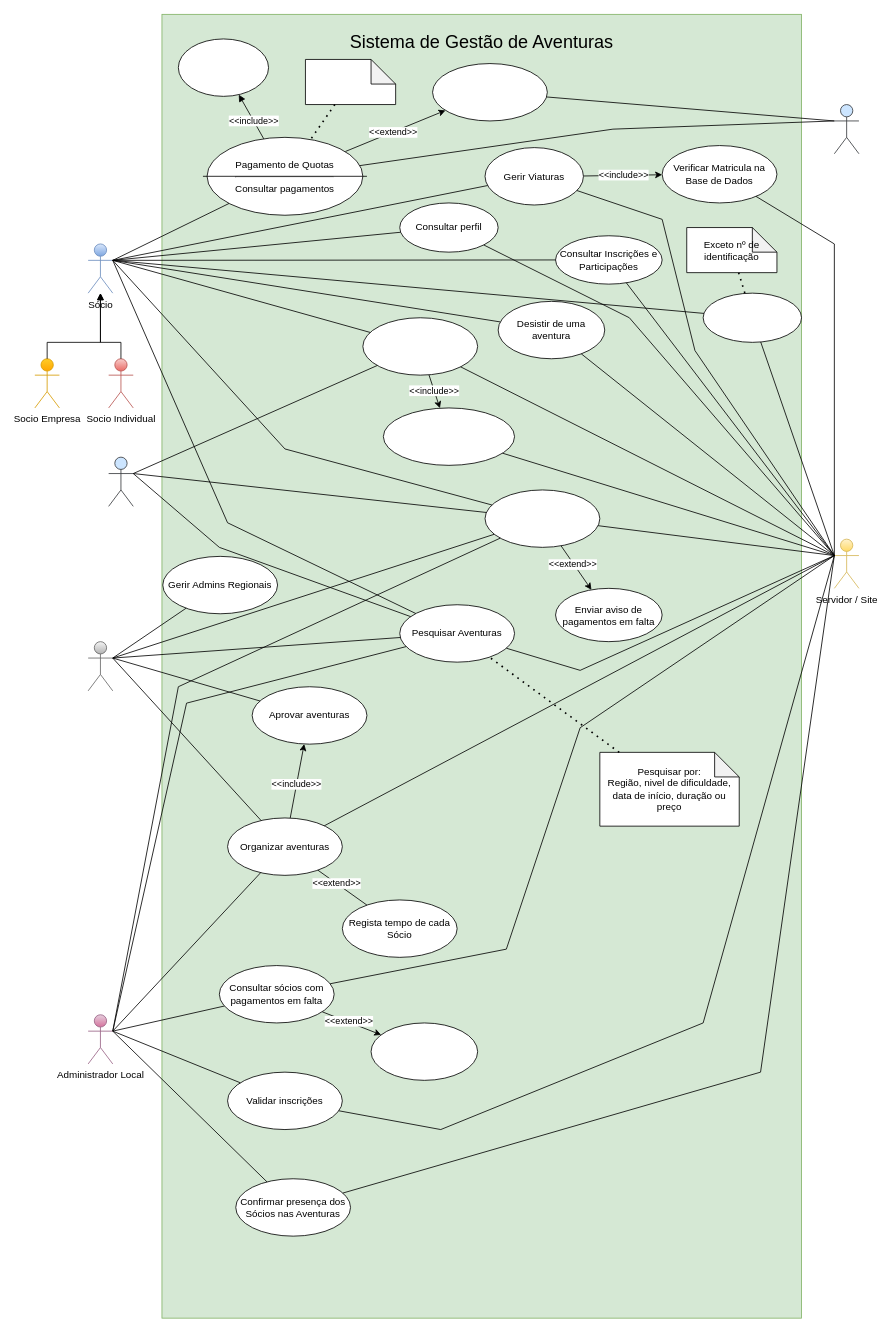
Image size: 891x1333. Some labels were removed from this diagram. The centre of each missing label's shape, as x and y in pixels:
"Autenticar Perfil" belongs at [542,518].
"Banco" belongs at [846,129].
"Consultar Pagamentos" belongs at [489,92].
"Diretor Clube" belongs at [100,666].
"Editar Perfil" belongs at [752,317].
"Enviar email com o valor da dívida" belongs at [424,1051].
"Envio do Recibo" belongs at [223,67].
"Navegador" belongs at [120,481].
"Pagamento semestral" belongs at [350,82].
"Preencher Ficha de Inscrição" belongs at [420,346].
"Verificar se o sócio, tem o nível de dificuldade abaixo" belongs at [449,436].
